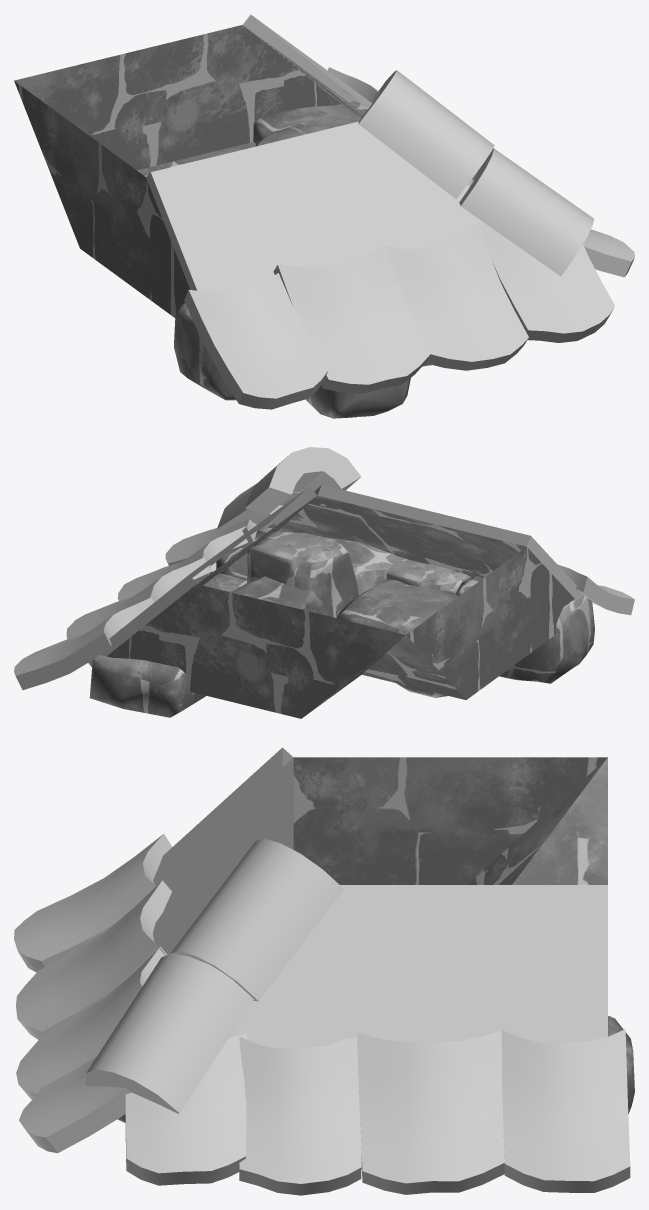
Rendered from Roof_End_Corner_Outer.fbx.
3 renders of one model, top to bottom at view 1: azimuth 30°, elevation 25°; view 2: azimuth 150°, elevation 25°; view 3: azimuth 270°, elevation 25°, orthographic. The views are drawn at different scales.
Parts seen in each view (by area): view 1: End_Corner_Outer, rock_4.002; view 2: End_Corner_Outer, rock_4.002; view 3: End_Corner_Outer, rock_4.002.
Boxes of the visible parts, x1,y1,x2,y2 form: End_Corner_Outer: (14,14,634,409); rock_4.002: (174,101,431,418); End_Corner_Outer: (14,447,634,718); rock_4.002: (89,522,594,717); End_Corner_Outer: (14,747,630,1195); rock_4.002: (117,1016,634,1122).
Size of the model in its own units: 2.94 by 1.71 by 2.96.
